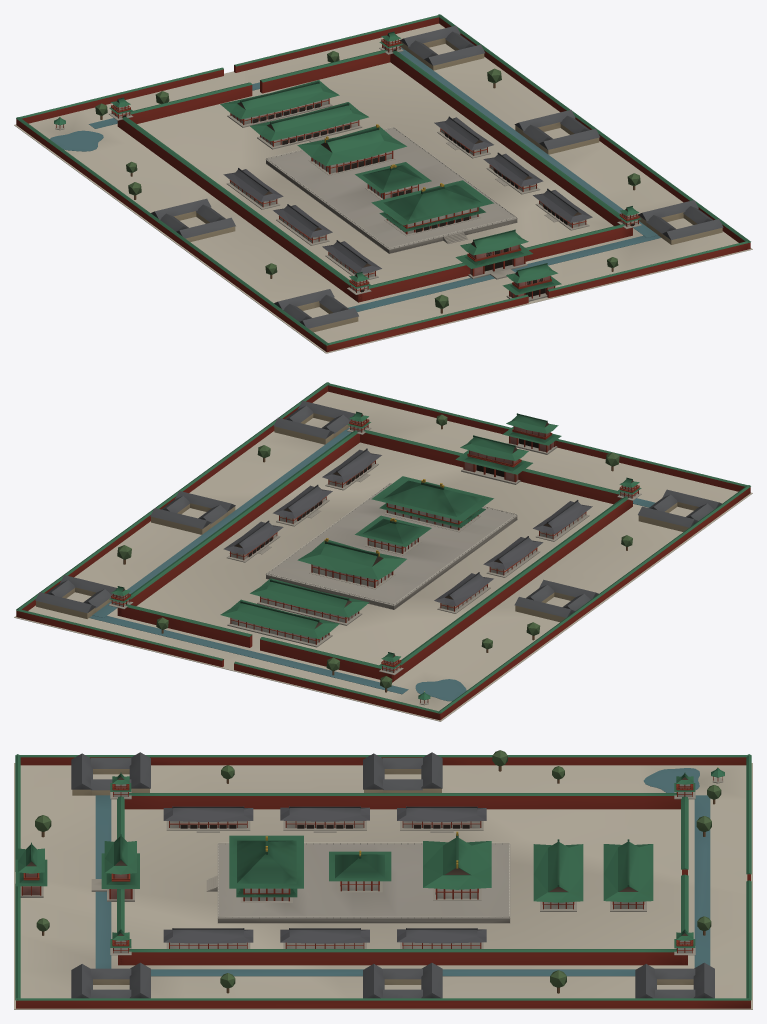
Rendered from zhou-palace.glb.
3 renders of one model, top to bottom at view 1: azimuth 30°, elevation 25°; view 2: azimuth 150°, elevation 25°; view 3: azimuth 270°, elevation 25°, orthographic. The views are drawn at different scales.
Parts seen in each view (by area): view 1: p0_grounds, p2_trees, p1_halls; view 2: p0_grounds, p2_trees, p1_halls; view 3: p0_grounds, p2_trees, p1_halls.
Part boxes in pixels (x1,y1,x2,y2): p0_grounds: [14, 14, 752, 353]; p2_trees: [95, 31, 641, 313]; p1_halls: [54, 25, 723, 332]; p0_grounds: [14, 382, 752, 721]; p2_trees: [109, 411, 641, 692]; p1_halls: [35, 400, 721, 705]; p0_grounds: [14, 754, 752, 1009]; p2_trees: [15, 750, 721, 993]; p1_halls: [20, 752, 724, 998].
Size of the model in its own units: 300 by 25.67 by 380.
